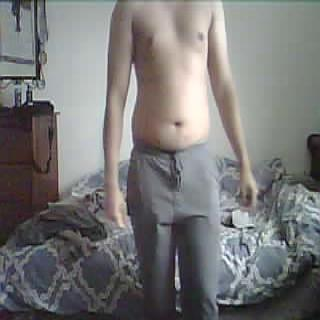Gray Sweatpants: (125, 136, 224, 320)
